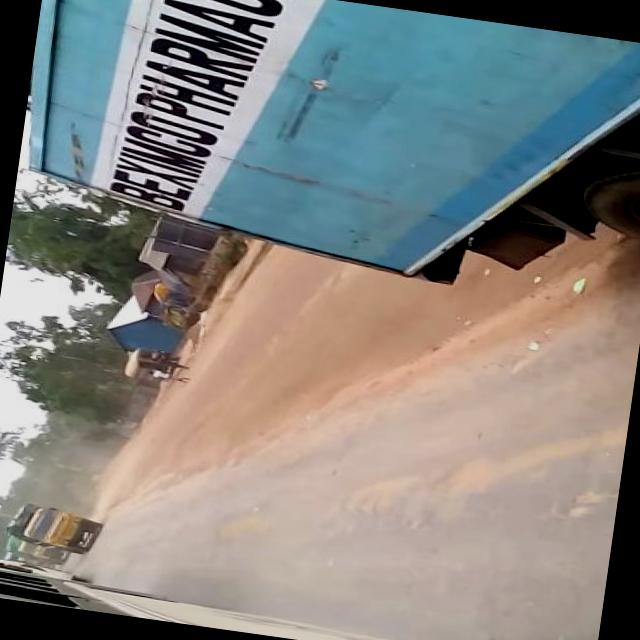bus: (0, 563, 503, 640), (0, 555, 83, 581), (3, 536, 65, 566)
truck: (15, 0, 640, 315), (1, 498, 106, 556)
